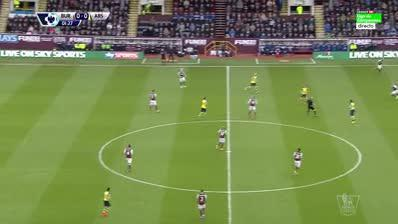player: (99, 184, 117, 218), (193, 186, 211, 219), (290, 145, 307, 178), (121, 141, 136, 176), (344, 97, 361, 127), (245, 94, 261, 122), (215, 124, 230, 153), (147, 87, 162, 115), (244, 70, 261, 94), (197, 96, 212, 120), (176, 67, 190, 90), (296, 83, 311, 103), (374, 57, 387, 74), (388, 80, 397, 103)
referree: (305, 93, 320, 119)
